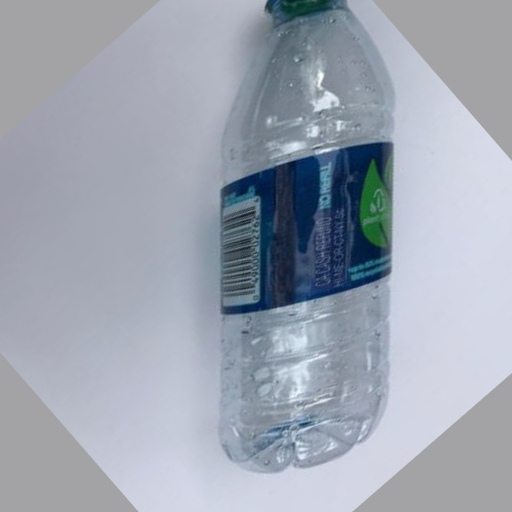Plastic_0: (219, 1, 392, 473)
